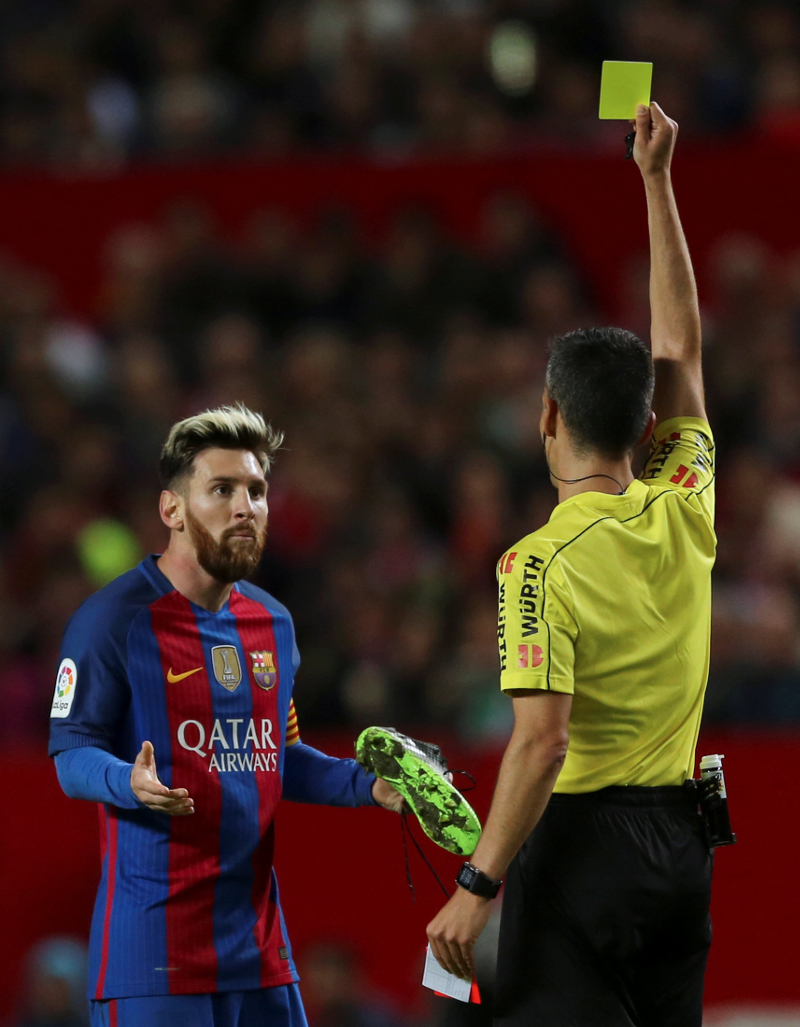yellow_card: (579, 31, 700, 201)
